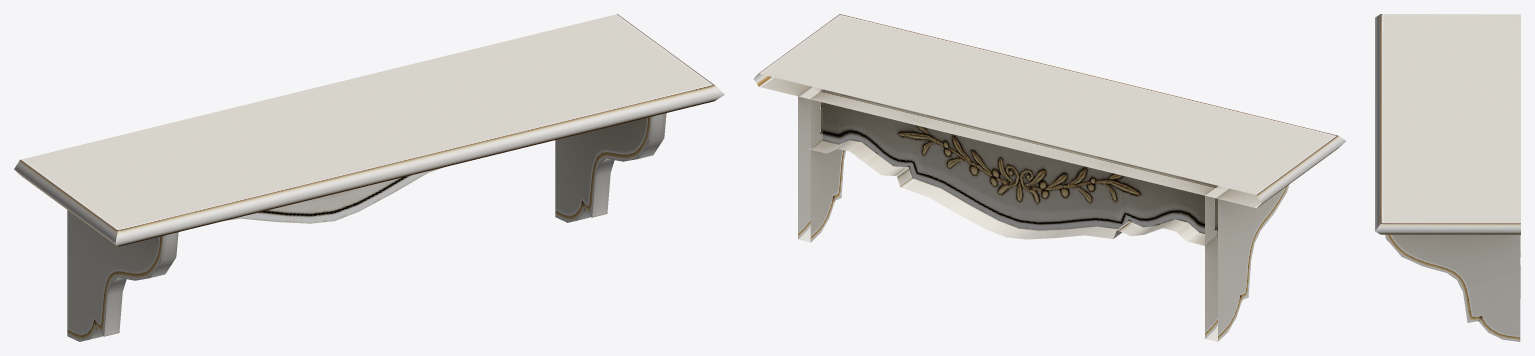
The model's file is Board01.FBX.
3 renders of one model, left to right at view 1: azimuth 30°, elevation 25°; view 2: azimuth 150°, elevation 25°; view 3: azimuth 270°, elevation 25°, orthographic. The views are drawn at different scales.
Visible parts, largest first — view 1: Board01; view 2: Board01; view 3: Board01.
Part boxes in pixels (x1=…): Board01: x1=14, y1=14, x2=724, y2=341; Board01: x1=753, y1=14, x2=1345, y2=341; Board01: x1=1375, y1=14, x2=1520, y2=341.
Size of the model in its own units: 102 by 29.29 by 29.89.
